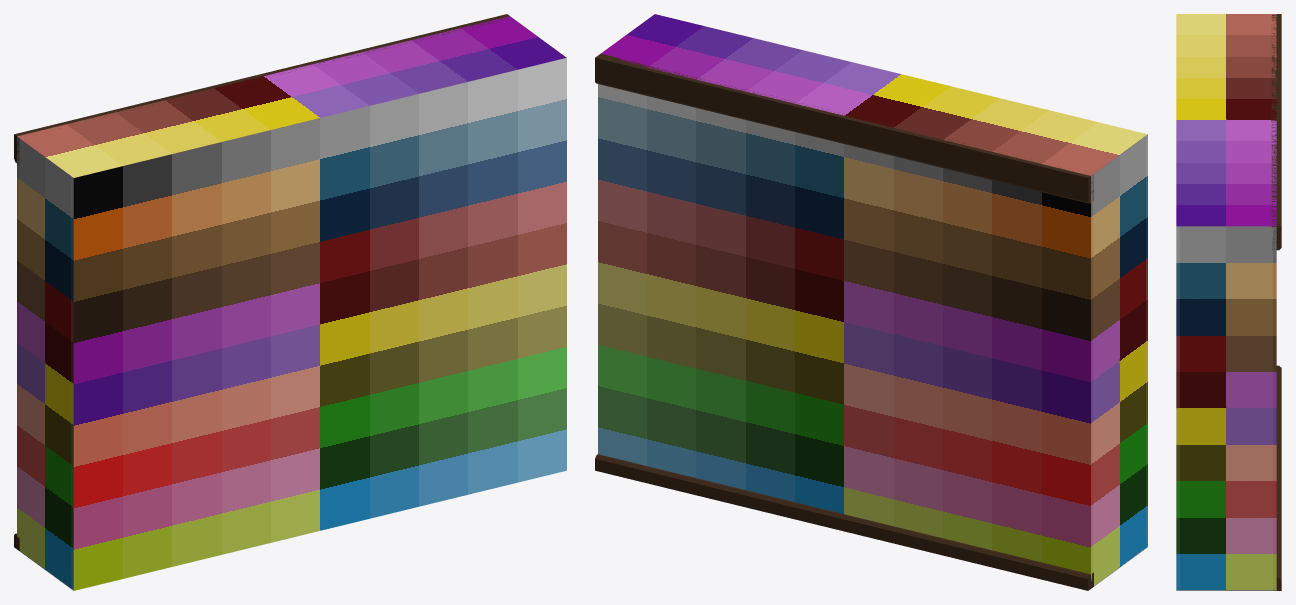
File: Wall.fbx
3 renders of one model, left to right at view 1: azimuth 30°, elevation 25°; view 2: azimuth 150°, elevation 25°; view 3: azimuth 270°, elevation 25°, orthographic. The views are drawn at different scales.
Visible parts, largest first — view 1: Cube, Cube.002; view 2: Cube, Cube.002, Cube.001; view 3: Cube, Cube.002, Cube.001.
Boxes of the visible parts, <box> form: Cube: <box>17,16,566,590</box>; Cube.002: <box>14,14,510,164</box>; Cube: <box>598,14,1147,586</box>; Cube.002: <box>595,53,1093,203</box>; Cube.001: <box>595,454,1093,590</box>; Cube: <box>1176,14,1276,590</box>; Cube.002: <box>1271,14,1281,250</box>; Cube.001: <box>1272,365,1281,590</box>.
Size of the model in its own units: 500 by 400 by 105.
